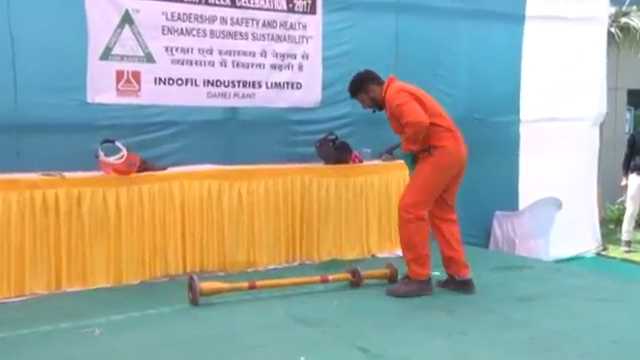helmet_off: (348, 70, 387, 114)
person: (344, 68, 477, 299), (619, 125, 640, 254)
